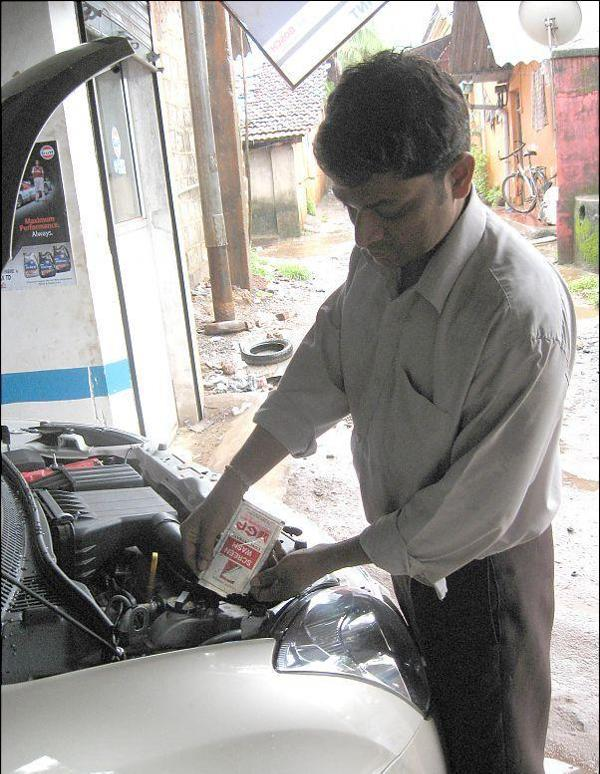person: (179, 52, 578, 774)
